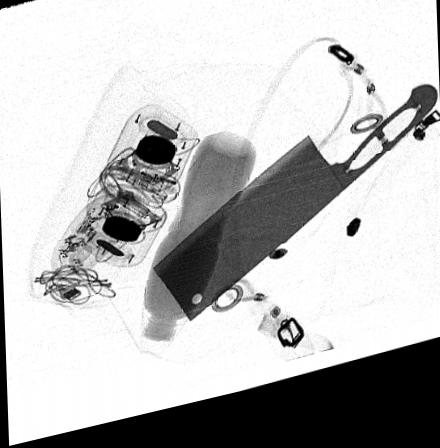Knife: (149, 101, 438, 331)
